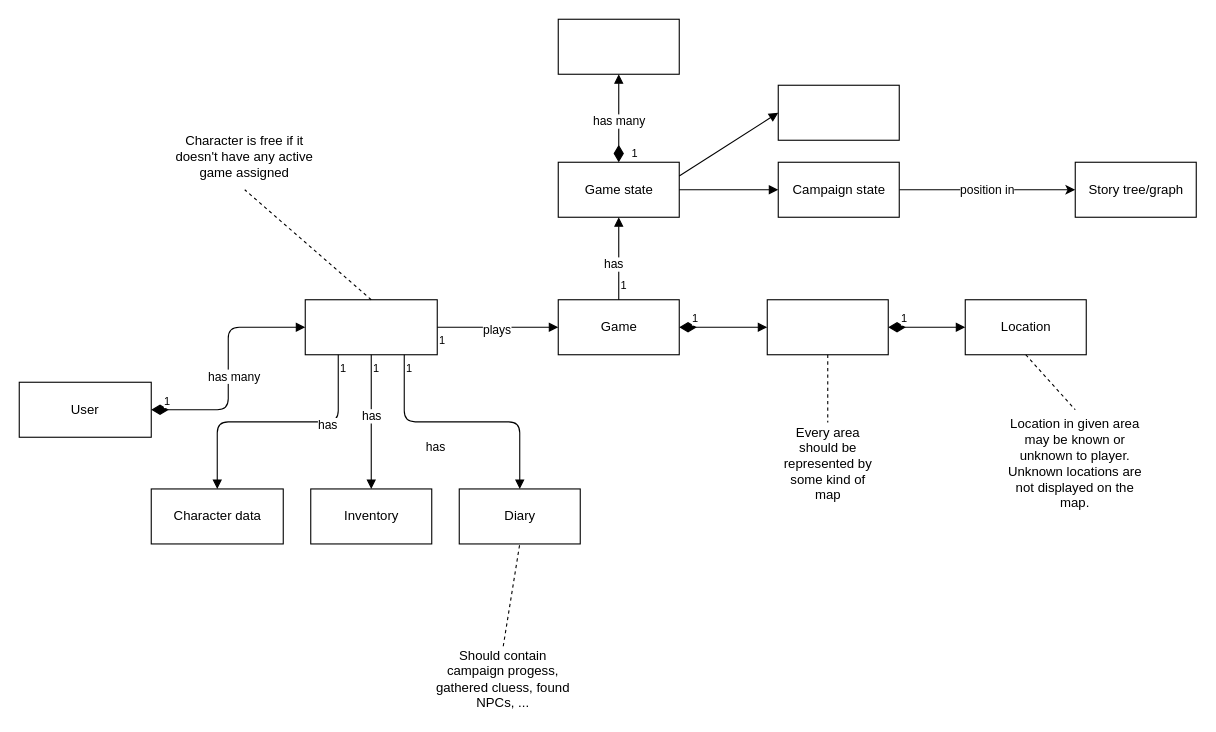
This 1216x732 diagram has some shape labels left out. Here are the shapes that lost their labels. From the top down, the box of each, then its label:
(557, 18, 679, 74): NPC
(777, 84, 899, 140): Current Location
(304, 299, 437, 355): Character
(766, 299, 888, 355): Area
